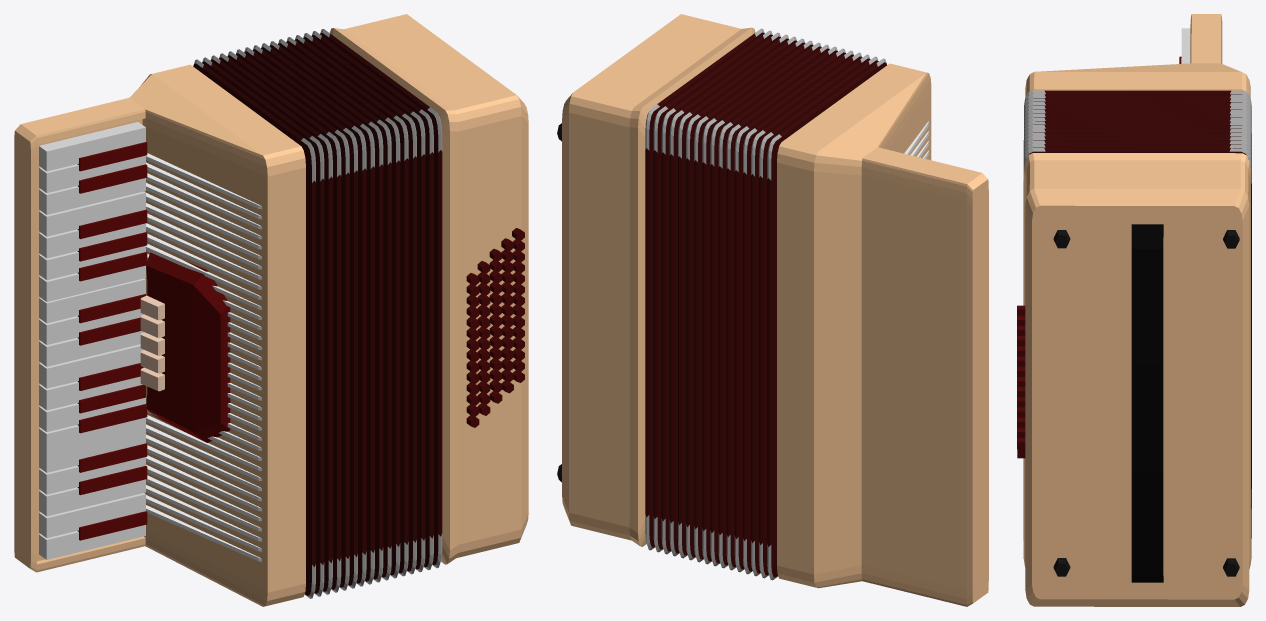
Rendered from Accordion08.fbx.
3 views of the same model, side by side, from view 1: azimuth 30°, elevation 25°; view 2: azimuth 150°, elevation 25°; view 3: azimuth 270°, elevation 25° (orthographic). The views are drawn at different scales.
Visible parts, largest first — view 1: Cube.011; view 2: Cube.011; view 3: Cube.011.
Boxes of the visible parts, x1,y1,x2,y2 form: Cube.011: [14, 14, 528, 606]; Cube.011: [557, 14, 988, 606]; Cube.011: [1017, 14, 1251, 606].
Size of the model in its own units: 57.59 by 56.02 by 28.02.
